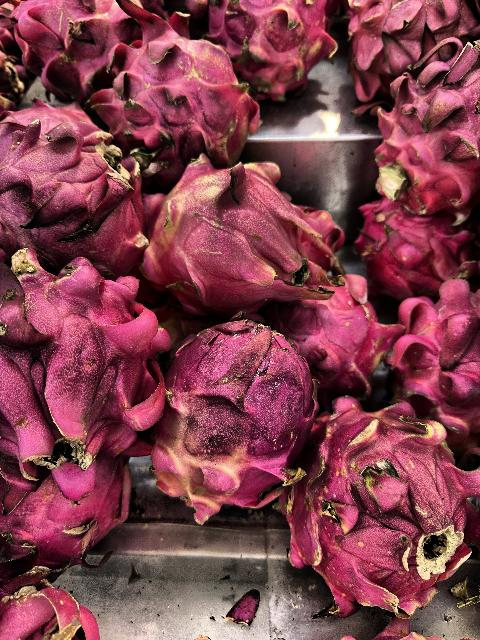buah-naga-belum-matang: (157, 308, 311, 522), (148, 156, 328, 310), (97, 23, 252, 160)
buah-naga-matang: (290, 402, 480, 616), (0, 251, 150, 471), (1, 97, 139, 269), (370, 35, 480, 206), (1, 456, 139, 568), (390, 284, 480, 444), (346, 194, 480, 296), (278, 280, 400, 386), (193, 0, 328, 90), (334, 0, 480, 76), (16, 1, 128, 88)
